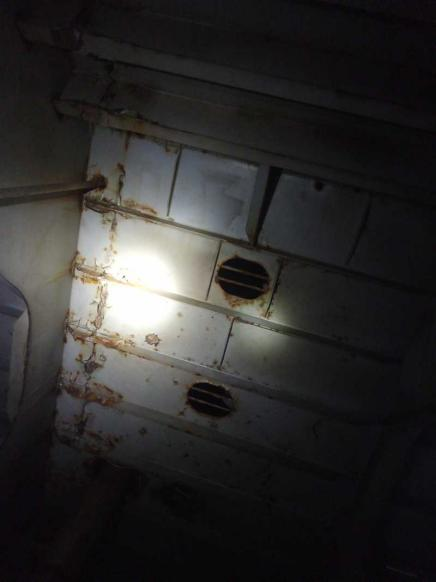corrosion: (209, 261, 272, 310), (78, 186, 159, 222), (51, 322, 140, 354), (179, 374, 235, 423), (59, 252, 115, 289), (55, 378, 125, 406), (53, 427, 116, 449), (114, 126, 144, 152)
